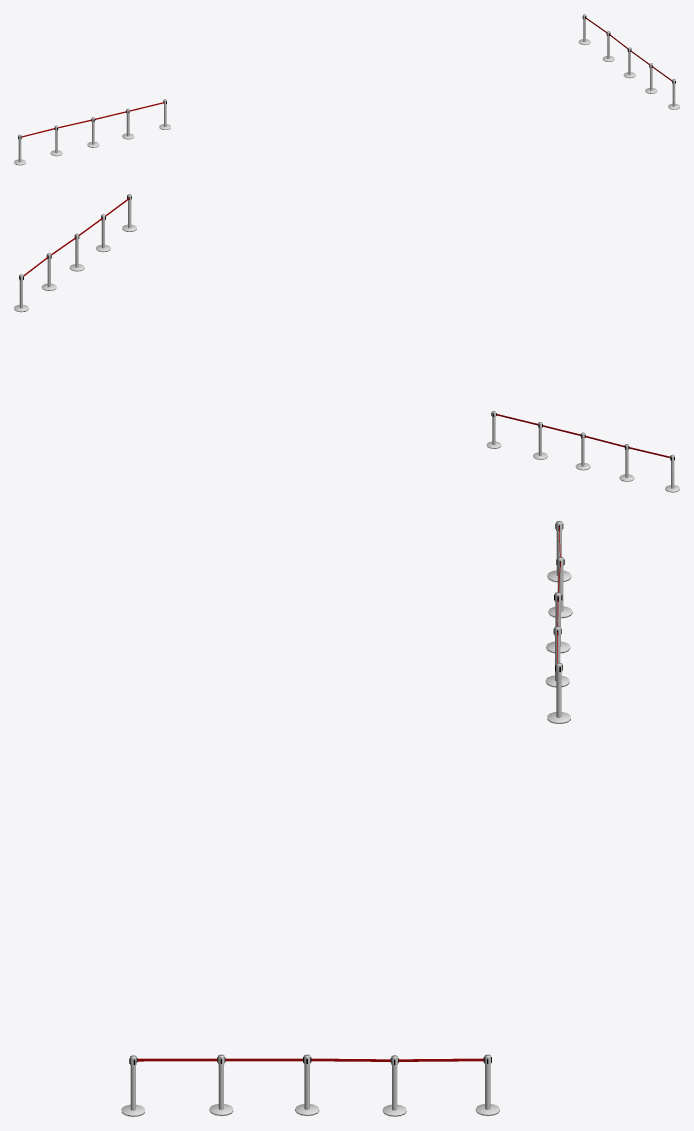
The model's file is separators.fbx.
The picture shows the model from 3 angles, top to bottom: view 1: azimuth 30°, elevation 25°; view 2: azimuth 150°, elevation 25°; view 3: azimuth 270°, elevation 25°; orthographic projection. The views are drawn at different scales.
Parts seen in each view (by area): view 1: pCube380; view 2: pCube380; view 3: pCube380, pCube378.
Boxes of the visible parts, left/top/right/bottom form: pCube380: left=14, top=99, right=170, bottom=165; pCube380: left=486, top=411, right=679, bottom=492; pCube380: left=545, top=521, right=572, bottom=723; pCube378: left=137, top=1058, right=483, bottom=1061.
Bounding box in the file's own units: 47.06 × 2.22 × 16.48.
